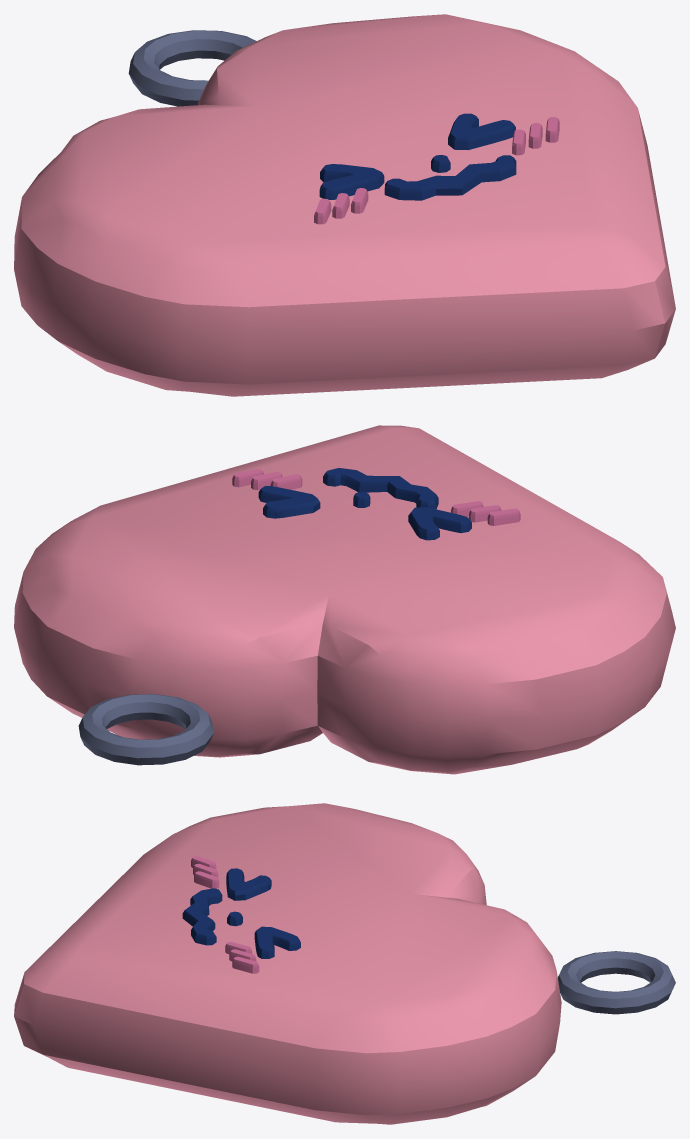
File: charm_heart.fbx
3 views of the same model, one above another, from view 1: azimuth 30°, elevation 25°; view 2: azimuth 150°, elevation 25°; view 3: azimuth 270°, elevation 25° (orthographic). The views are drawn at different scales.
Parts seen in each view (by area): view 1: charm_heart; view 2: charm_heart; view 3: charm_heart.
Boxes of the visible parts, x1,y1,x2,y2 form: charm_heart: (14, 14, 675, 396); charm_heart: (14, 425, 675, 774); charm_heart: (14, 803, 675, 1124).
Bounding box in the file's own units: 2.19 × 0.5726 × 2.51.
